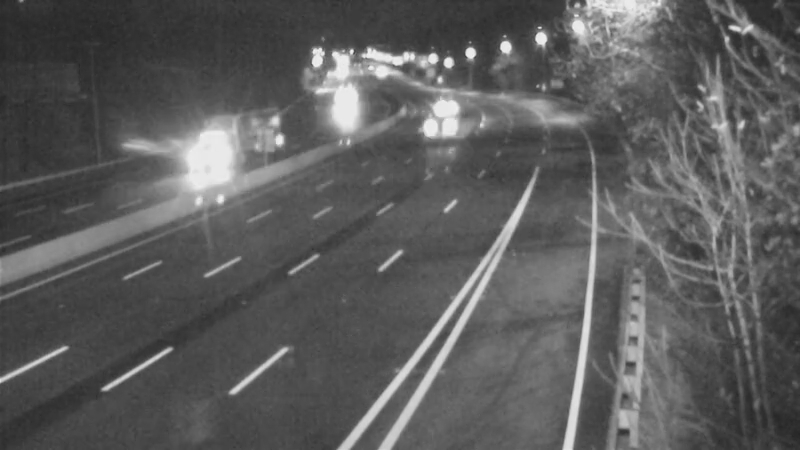vehicle: (162, 119, 242, 199), (419, 81, 469, 131), (409, 102, 459, 152), (321, 77, 371, 127)
